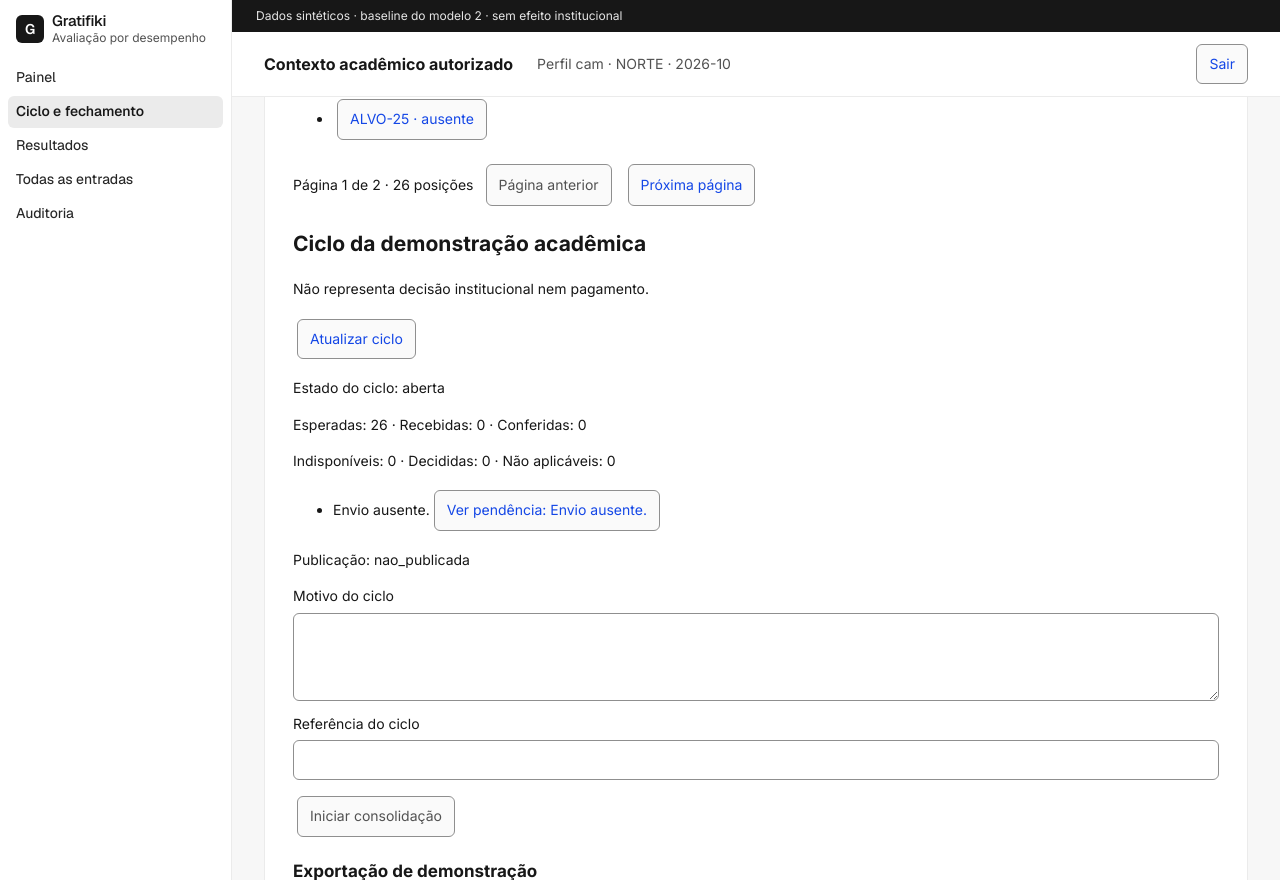
opens a cycle blocker that is outside the loaded queue page through the authorized detail read
(page scrolled)
Click the button "Ver pendência: Envio ausente.": (547, 510) left=434, top=490, right=660, bottom=531
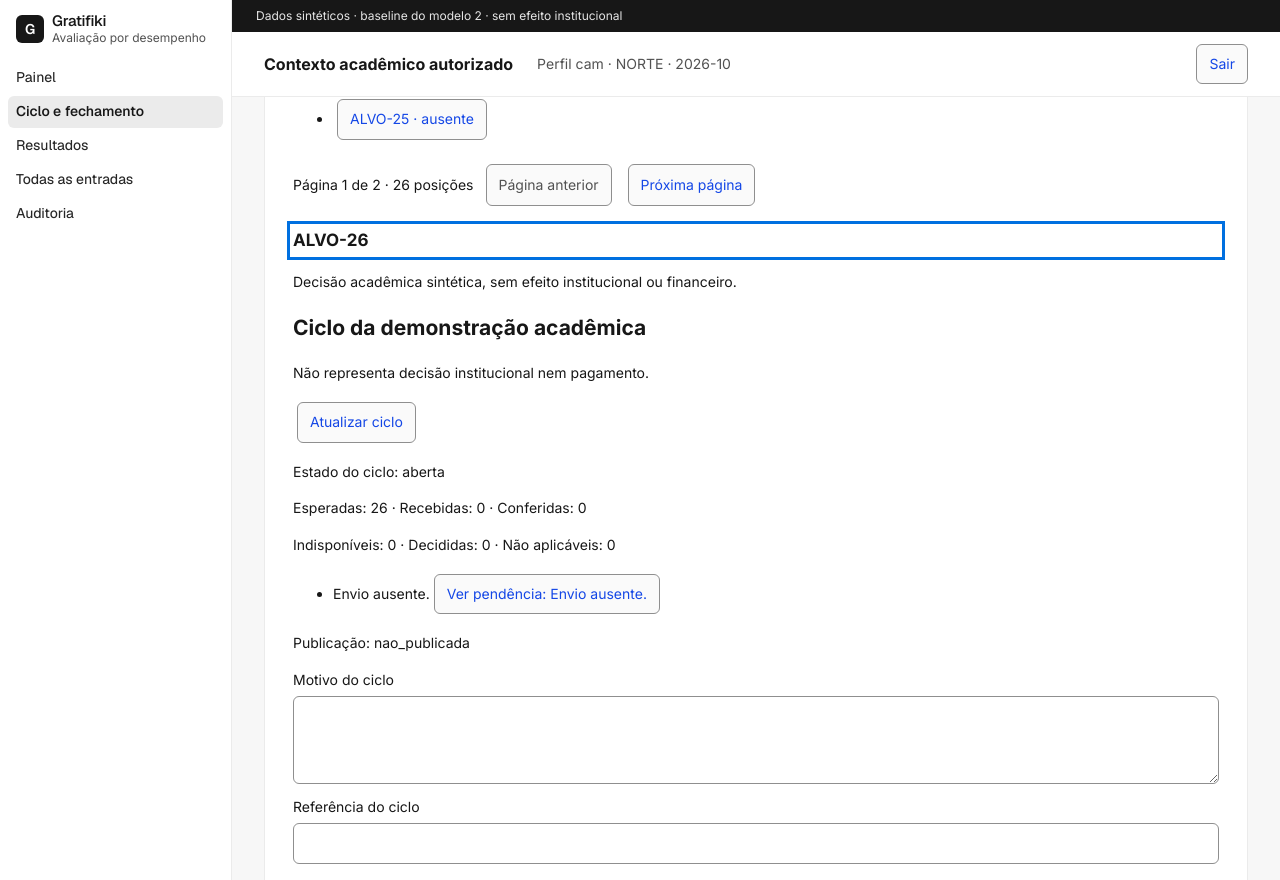
Result: the heading "ALVO-26" is shown at left=293, top=230, right=368, bottom=250
